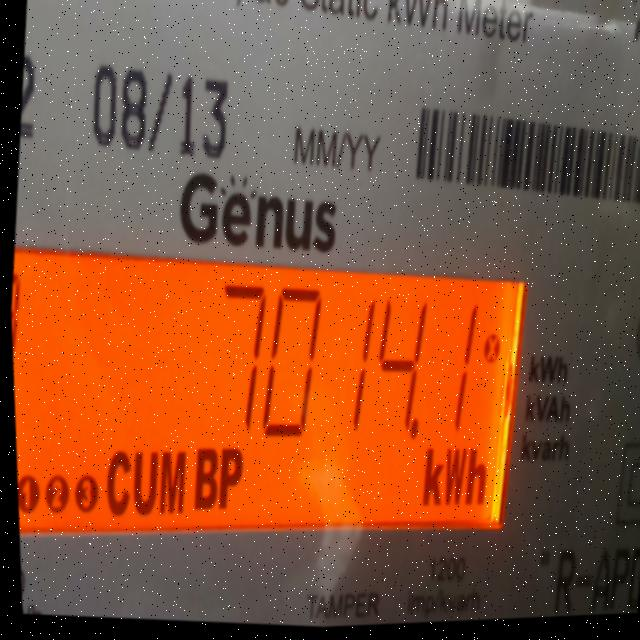.: (400, 405, 423, 461)
0: (254, 288, 328, 466)
1: (327, 293, 383, 453), (440, 303, 493, 453)
4: (364, 292, 437, 461)
7: (197, 270, 270, 450)
